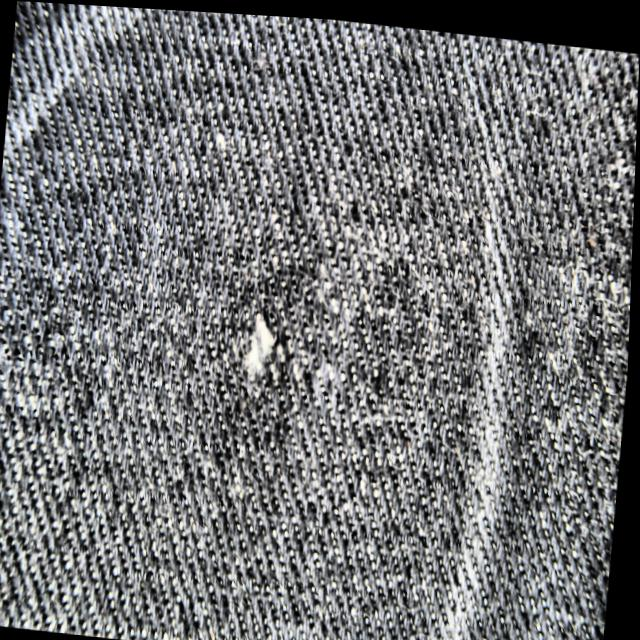Hole: (223, 295, 309, 399)
